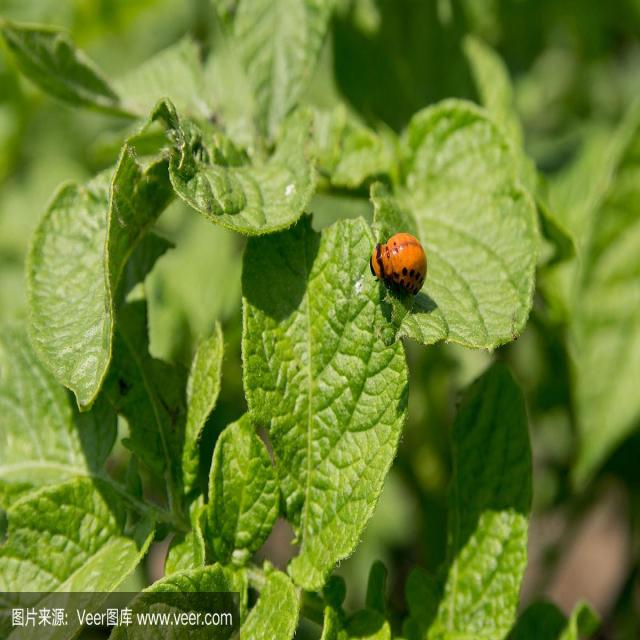ShuCaiHuaBanChong-Larva-: (368, 224, 432, 310)
